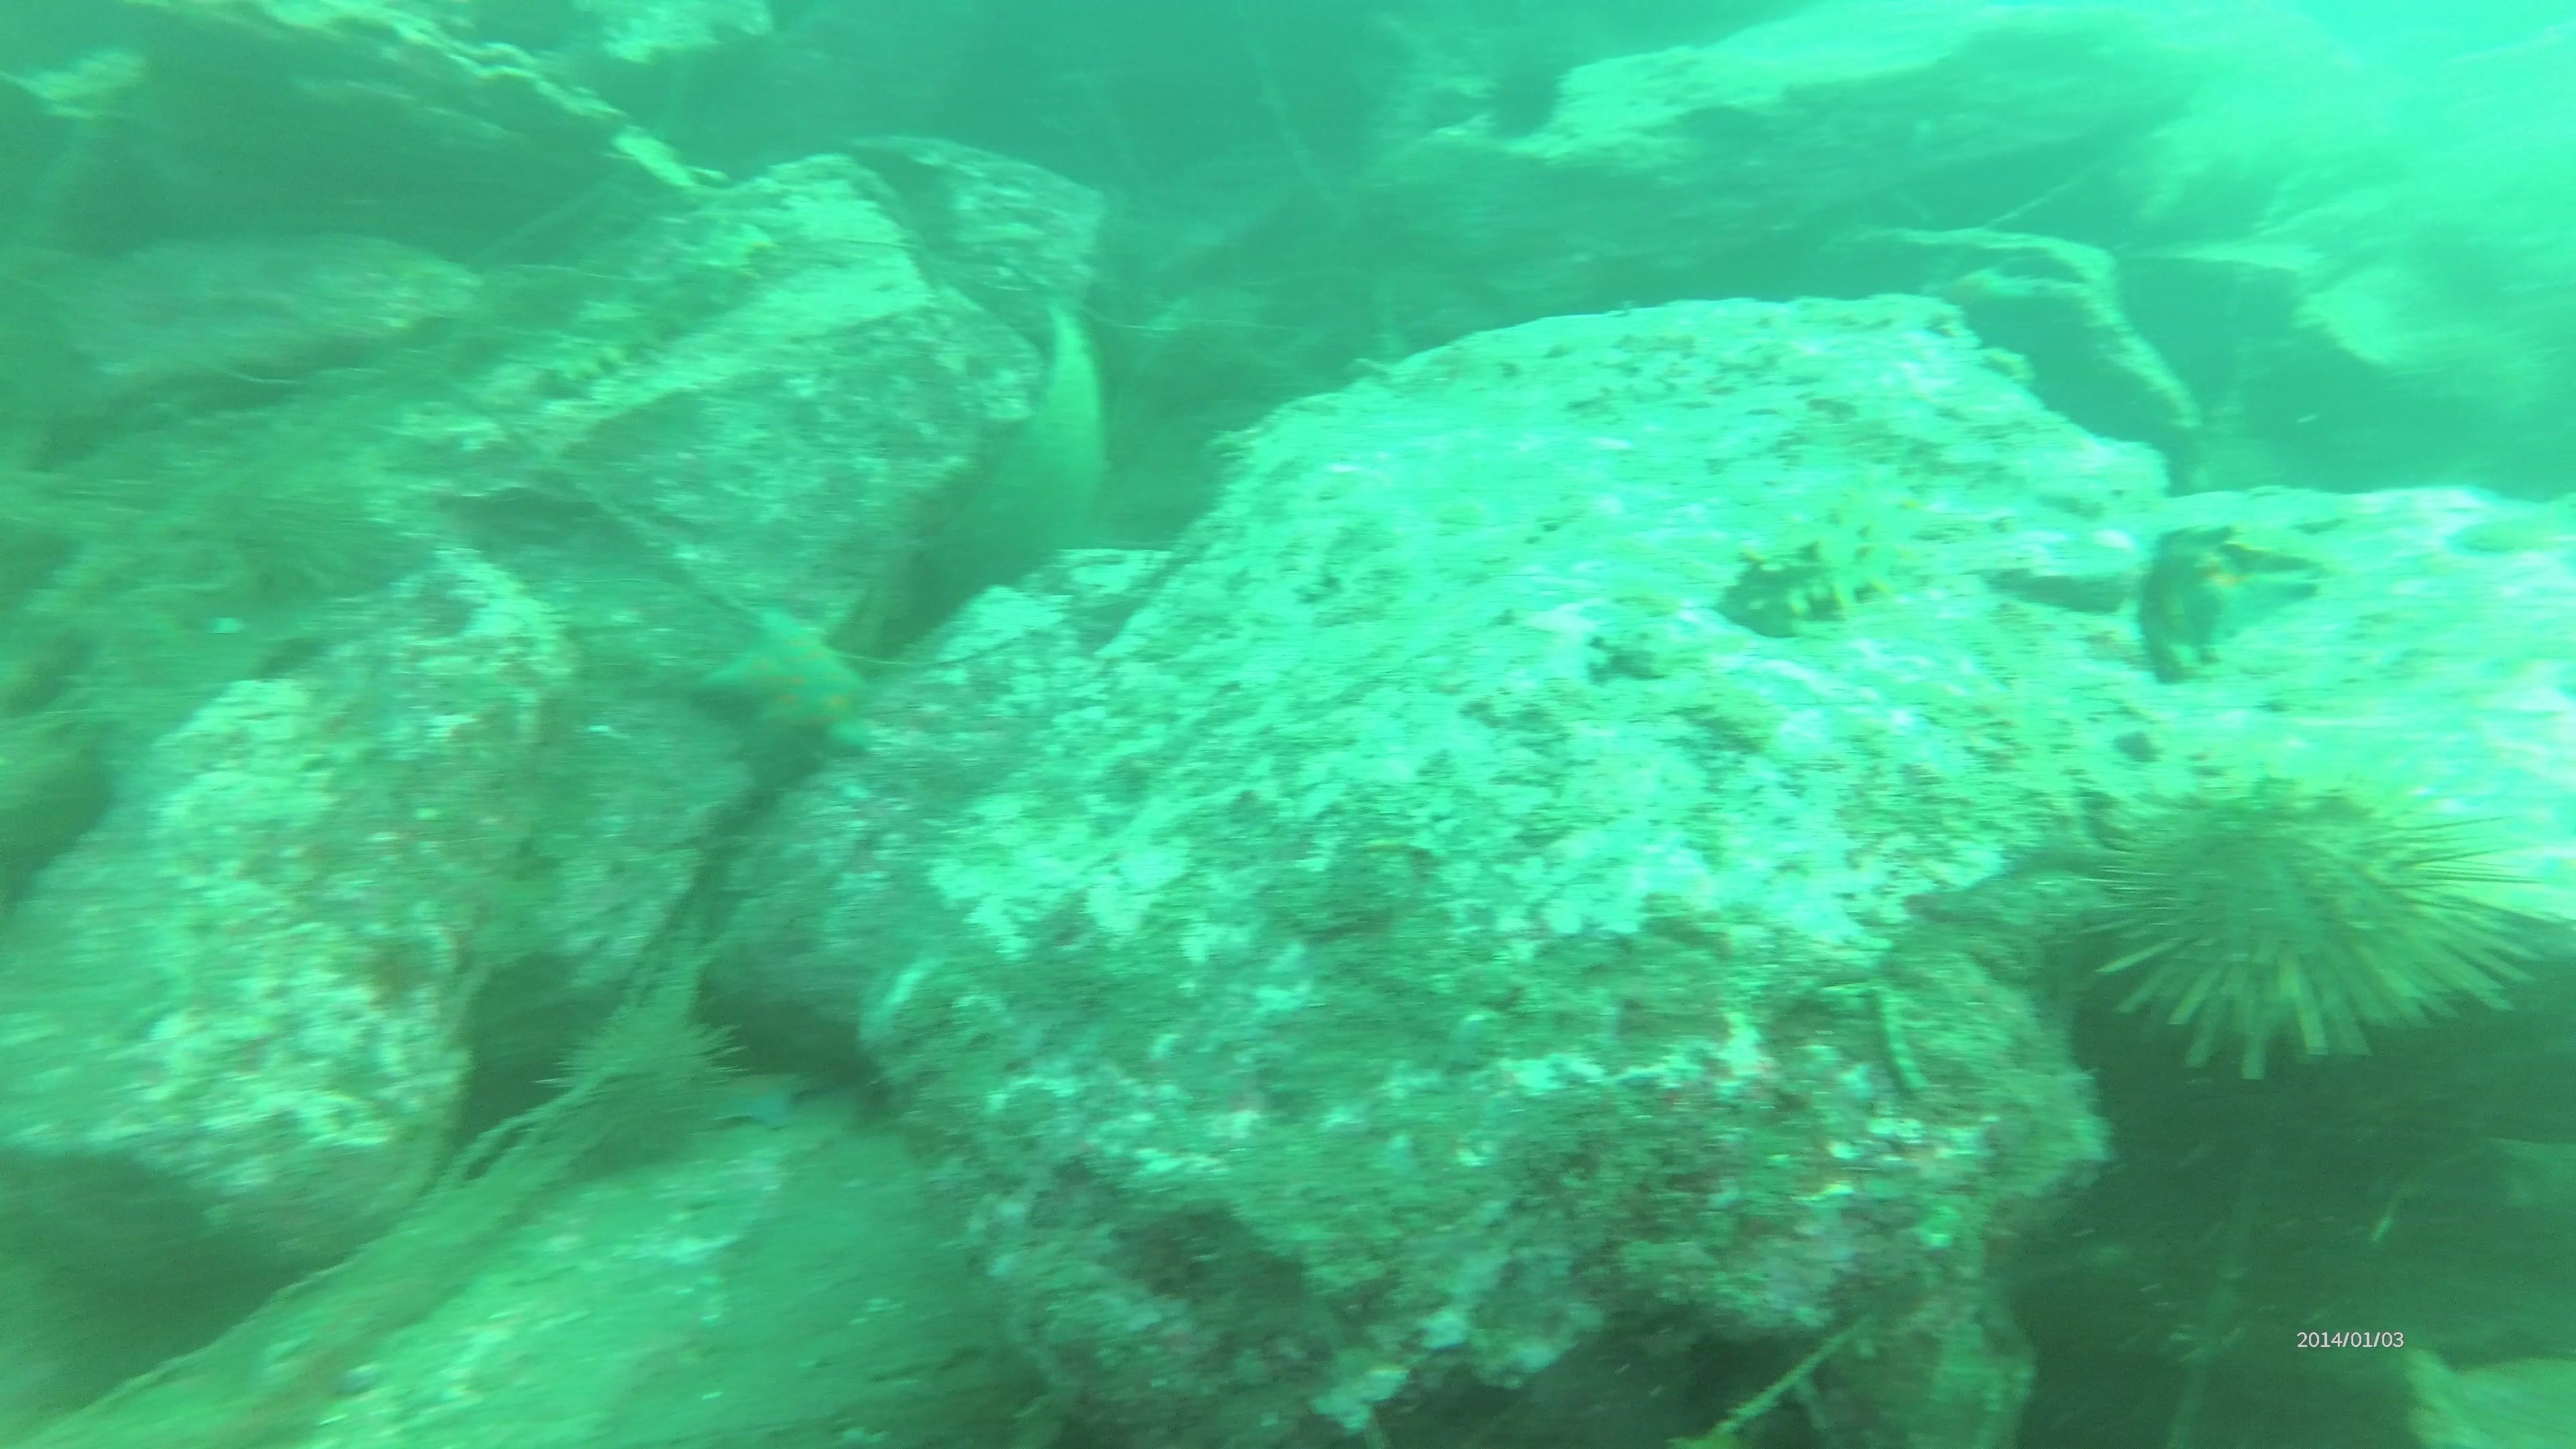echinus: (2068, 759, 2551, 1083), (534, 984, 755, 1182), (189, 444, 396, 616), (1472, 48, 1576, 147)
holothurian: (1709, 474, 1944, 644)
starfish: (686, 594, 879, 777), (2132, 525, 2330, 676), (692, 1062, 817, 1138)
